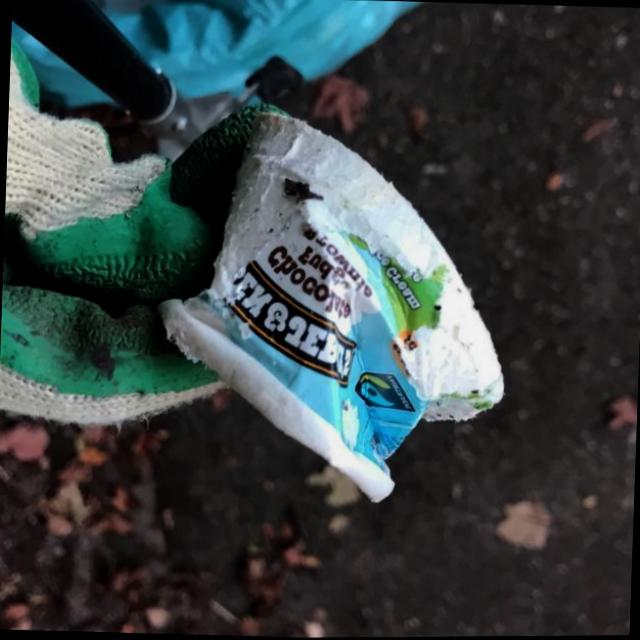Paper: (146, 99, 516, 512)
